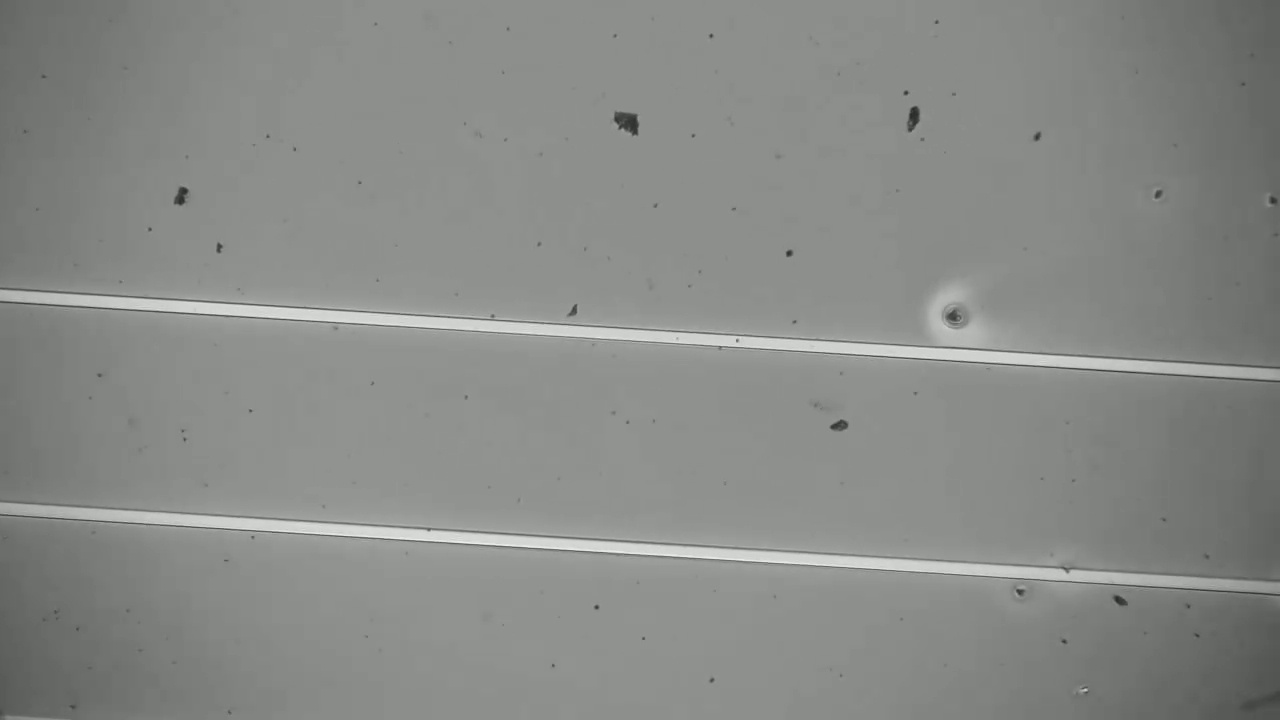stains_enbedded: (1056, 559, 1079, 590)
